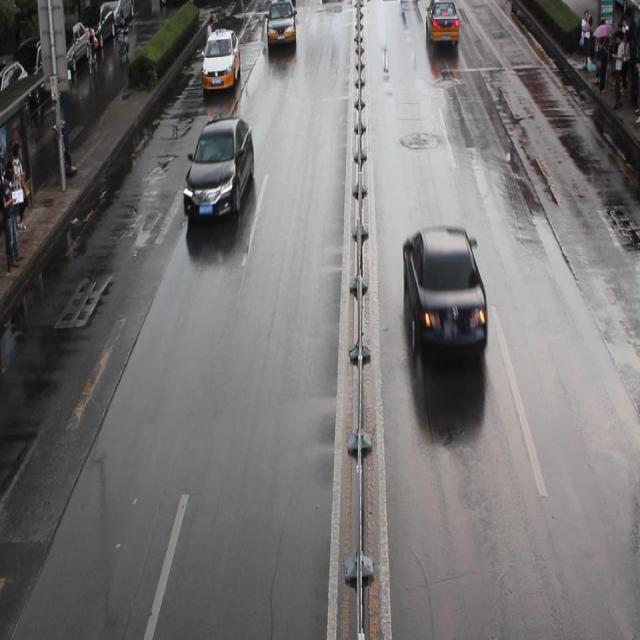car: (400, 225, 487, 358), (183, 117, 254, 223), (201, 28, 241, 91), (424, 1, 459, 44), (265, 2, 297, 48)
